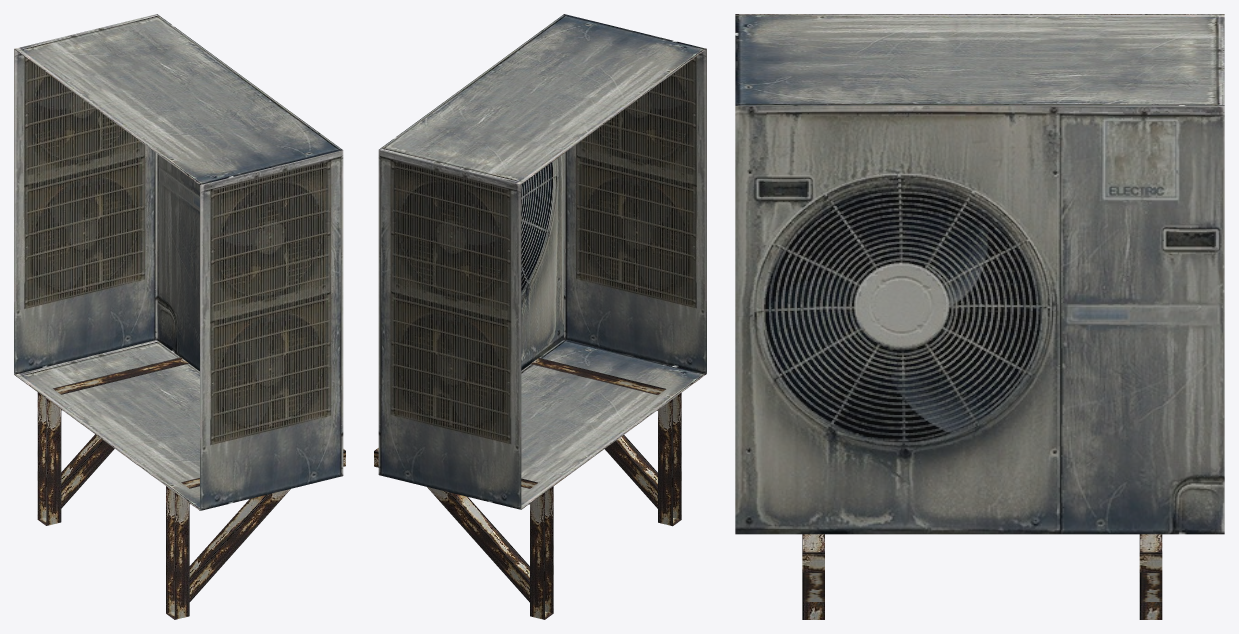
File: Conditioner_v1 (6).glb
The picture shows the model from 3 angles, left to right: view 1: azimuth 30°, elevation 25°; view 2: azimuth 150°, elevation 25°; view 3: azimuth 270°, elevation 25°; orthographic projection. The views are drawn at different scales.
Visible parts, largest first — view 1: Conditioner_v1 (6); view 2: Conditioner_v1 (6); view 3: Conditioner_v1 (6).
Boxes of the visible parts, box(x1,y1,x2,y2) form: Conditioner_v1 (6): box(14, 14, 345, 619); Conditioner_v1 (6): box(374, 14, 706, 619); Conditioner_v1 (6): box(735, 14, 1224, 619).
Size of the model in its own units: 0.6115 by 1.55 by 1.15.
Materials: 1 (1 with a texture image).
